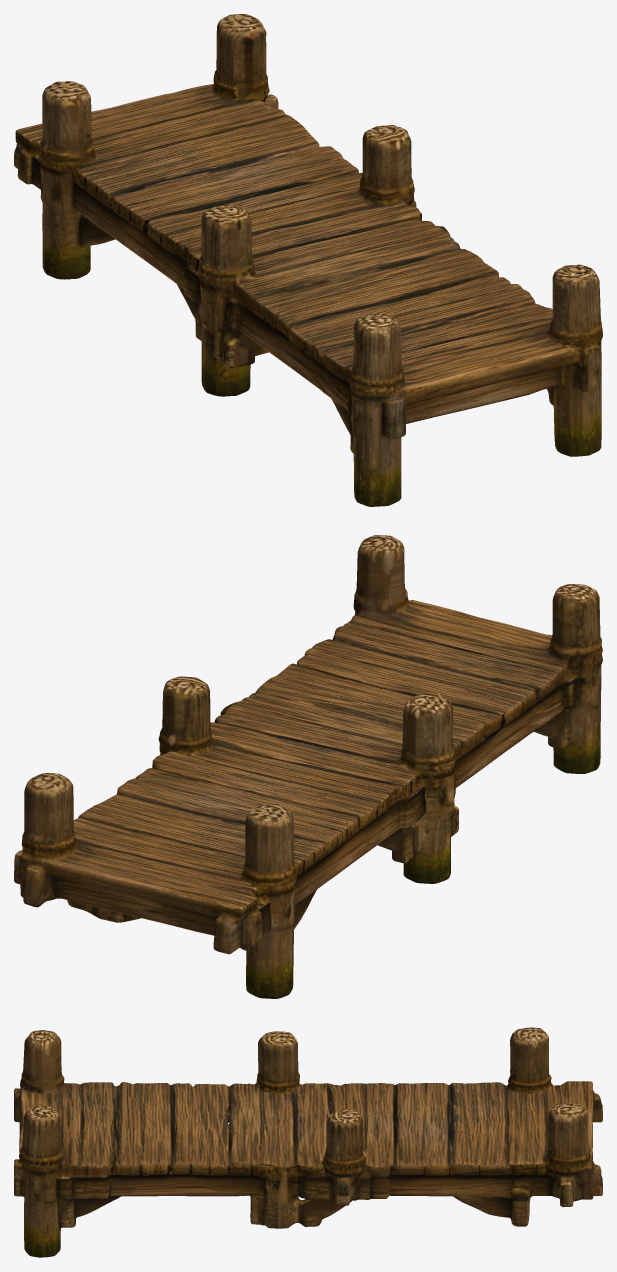
The model's file is wooden-dock.glb.
3 views of the same model, one above another, from view 1: azimuth 30°, elevation 25°; view 2: azimuth 150°, elevation 25°; view 3: azimuth 270°, elevation 25° (orthographic). The views are drawn at different scales.
Visible parts, largest first — view 1: painted; view 2: painted; view 3: painted.
Part boxes in pixels (x1,y1,x2,y2): painted: (14, 14, 602, 506); painted: (14, 535, 602, 998); painted: (14, 1027, 602, 1257).
Bounding box in the file's own units: 0.7948 × 0.5354 × 1.99.
1 material, 1 textured.
